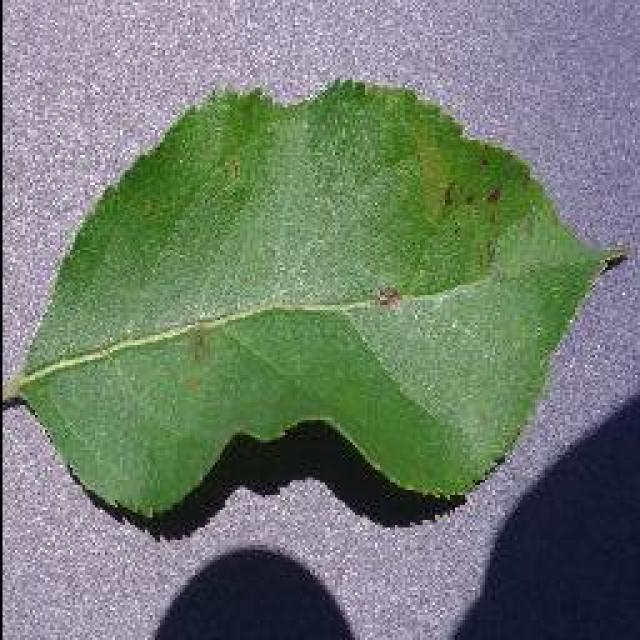apple scab disease: (2, 72, 628, 538)
